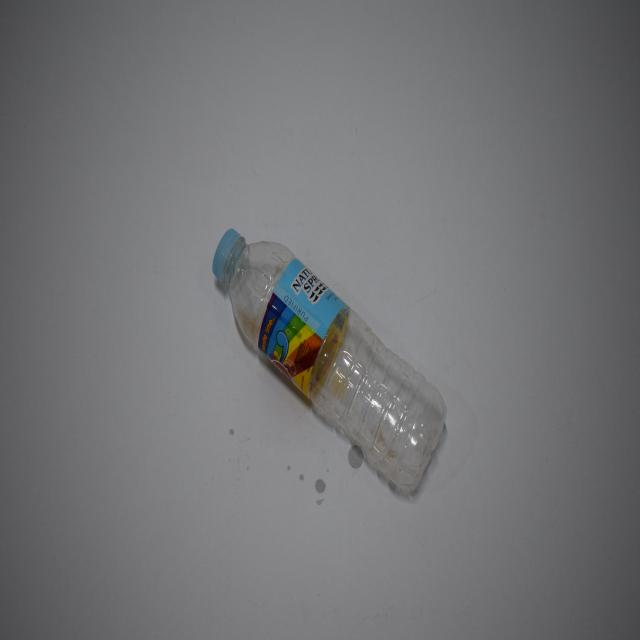bottle: (210, 211, 453, 508)
